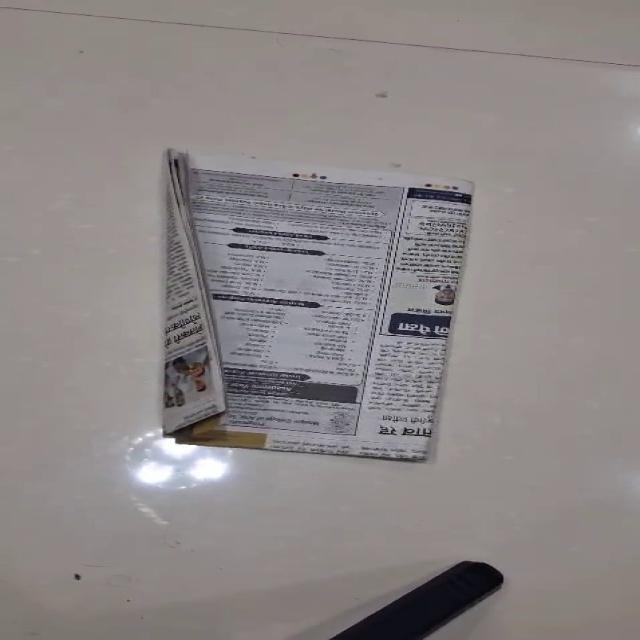paper: (161, 148, 475, 462)
